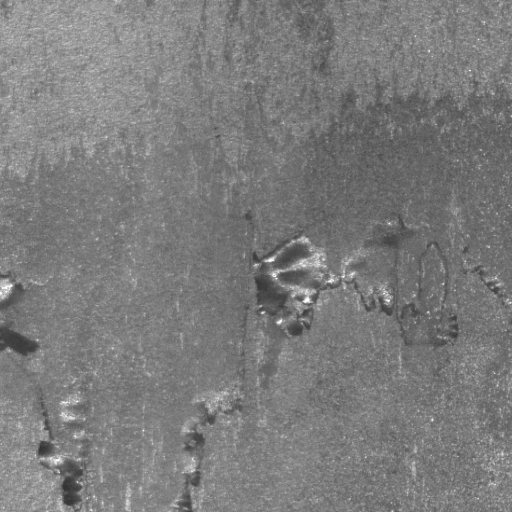aokeng: (244, 214, 456, 344), (2, 275, 93, 512), (170, 393, 241, 512)
